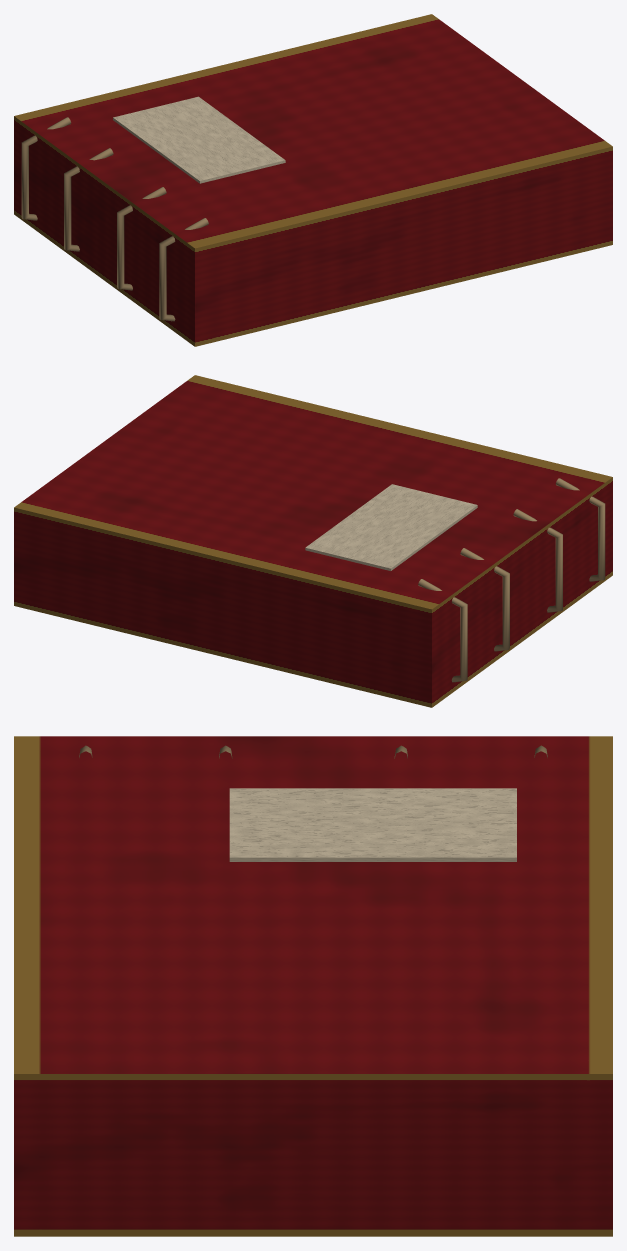
The model's file is book_red.glb.
3 views of the same model, one above another, from view 1: azimuth 30°, elevation 25°; view 2: azimuth 150°, elevation 25°; view 3: azimuth 270°, elevation 25° (orthographic). The views are drawn at different scales.
Parts seen in each view (by area): view 1: Cover, Art_Parchment, Art_FadedThread; view 2: Cover, Art_Parchment, Art_FadedThread; view 3: Cover, Art_Parchment.
Part boxes in pixels (<box>): Cover: <box>14,14,612,346</box>; Art_Parchment: <box>113,96,285,183</box>; Art_FadedThread: <box>21,117,208,321</box>; Cover: <box>14,375,612,707</box>; Art_Parchment: <box>305,484,477,570</box>; Art_FadedThread: <box>418,478,605,682</box>; Cover: <box>14,736,612,1236</box>; Art_Parchment: <box>229,788,516,861</box>.
Size of the model in its own units: 0.2065 by 0.0492 by 0.15.
Materials: 5 (4 with a texture image).
